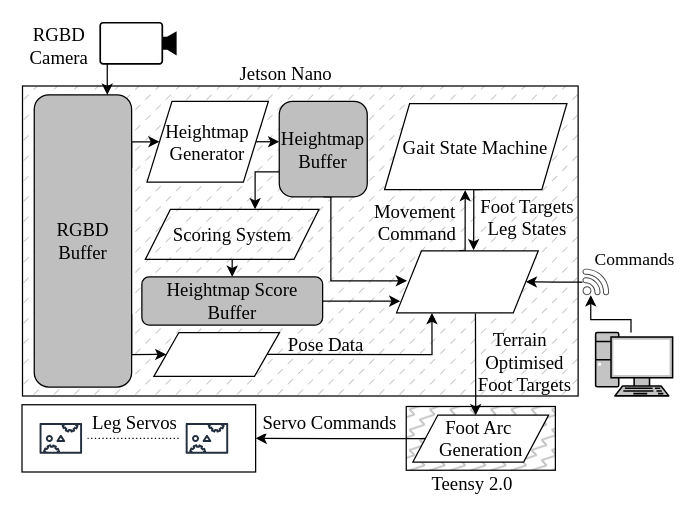
Some shapes in this 696 by 518 pixel diagram are drawn without their labels. Each missing label, with the centre of its shape:
"Base Station" goes at (x=633, y=363).
"Motion Controller" goes at (x=466, y=281).
"ORB SLAM 3" goes at (x=216, y=353).
